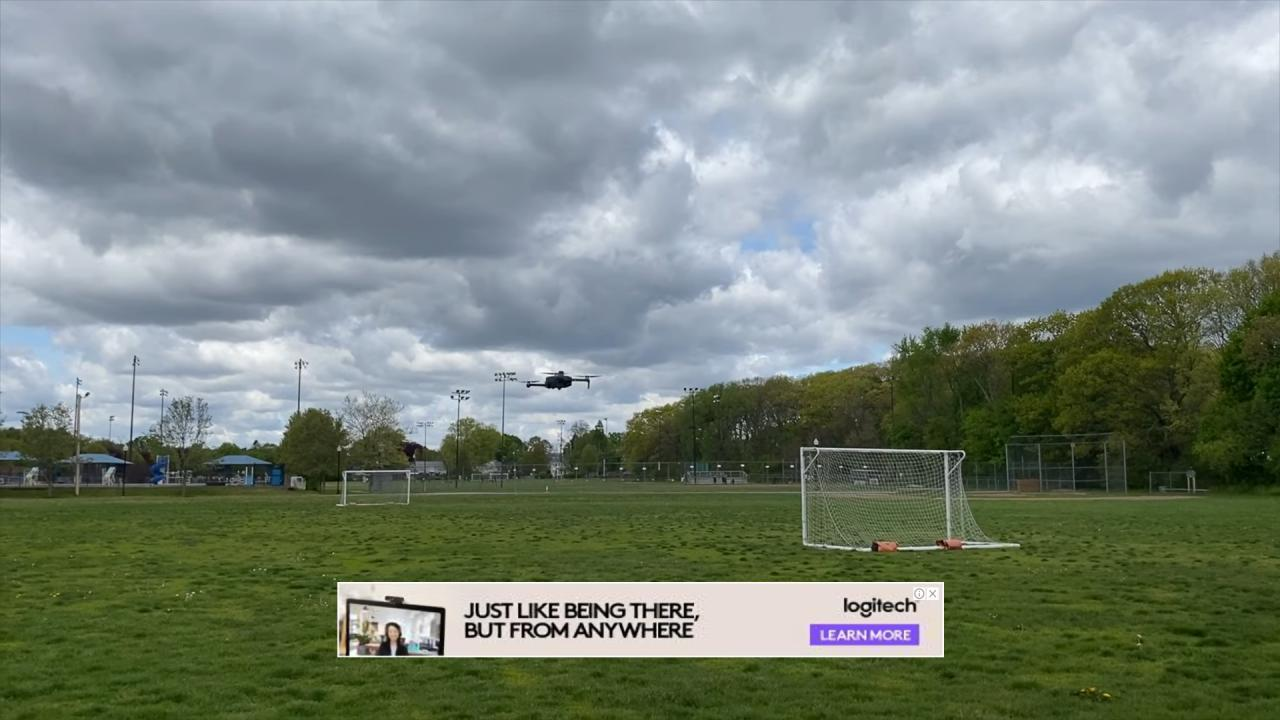Drone: (520, 364, 604, 396)
